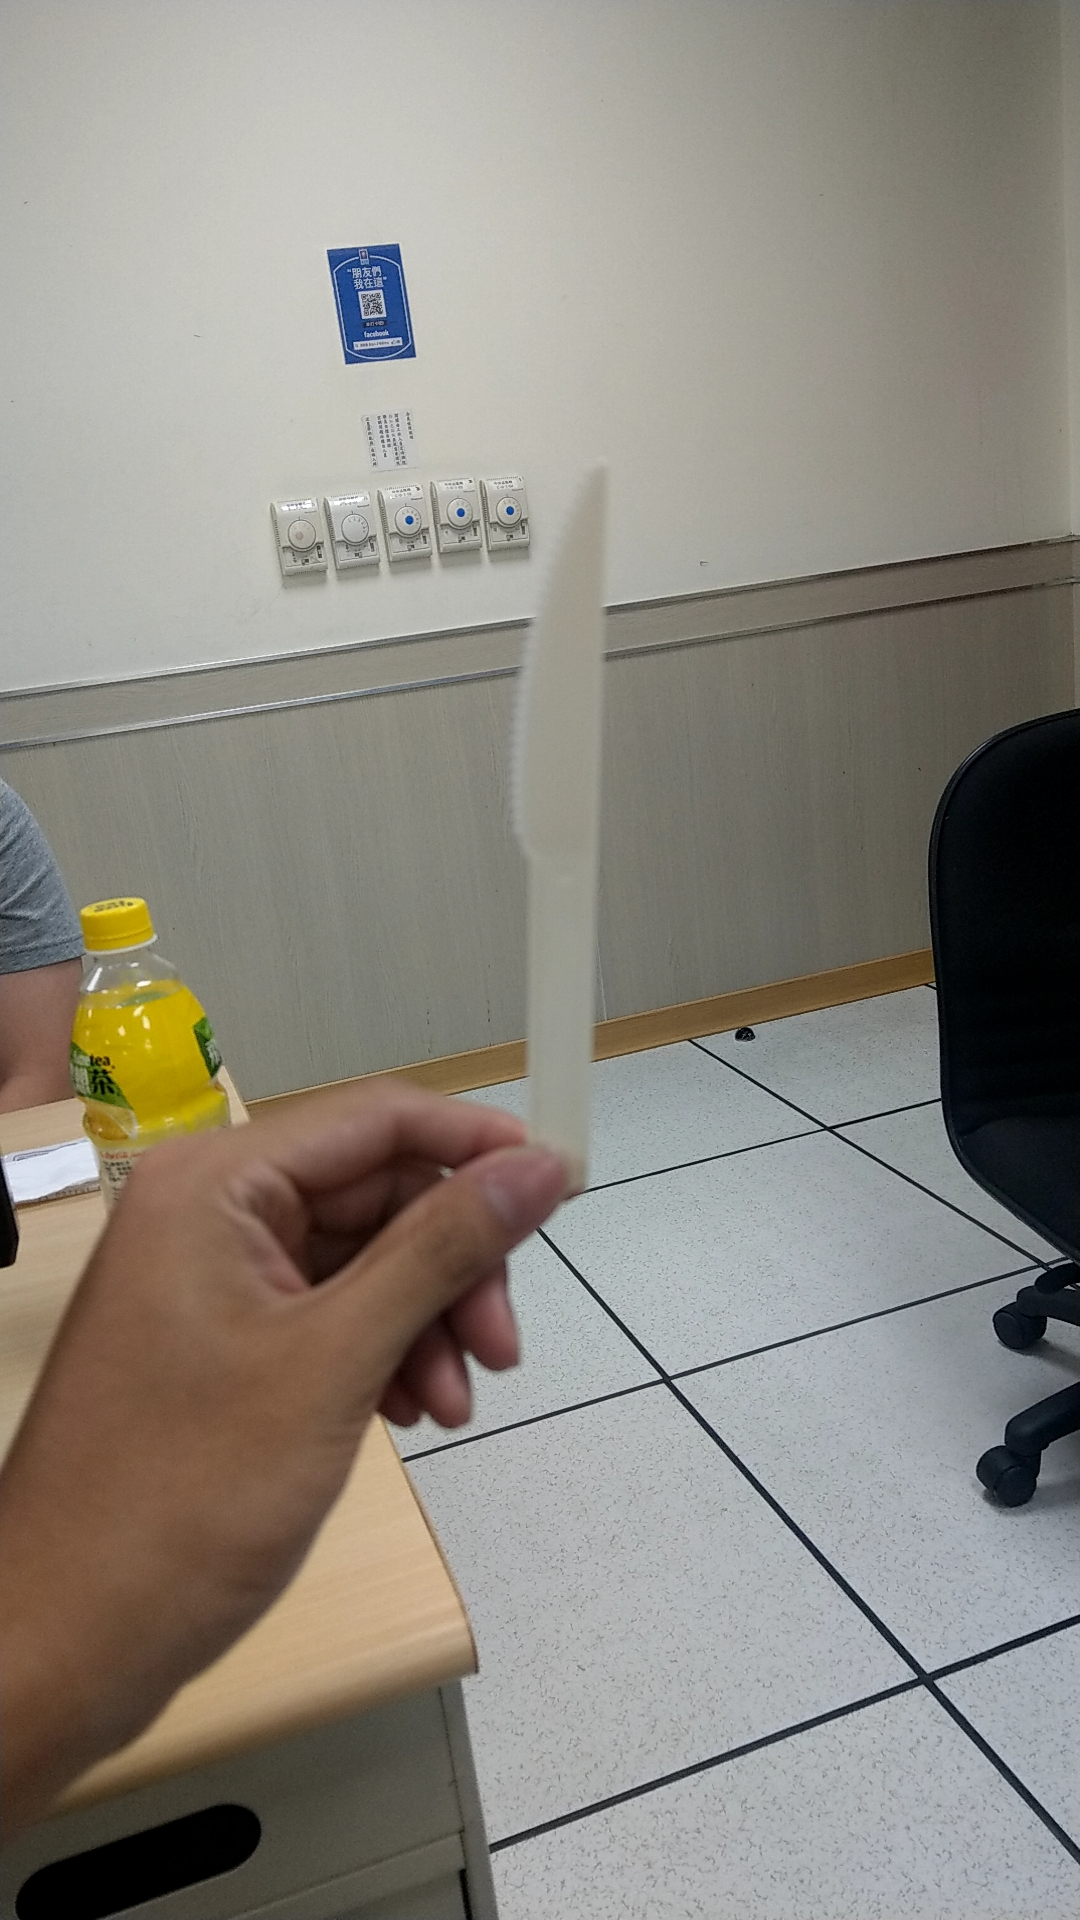knife: (491, 436, 644, 1160)
